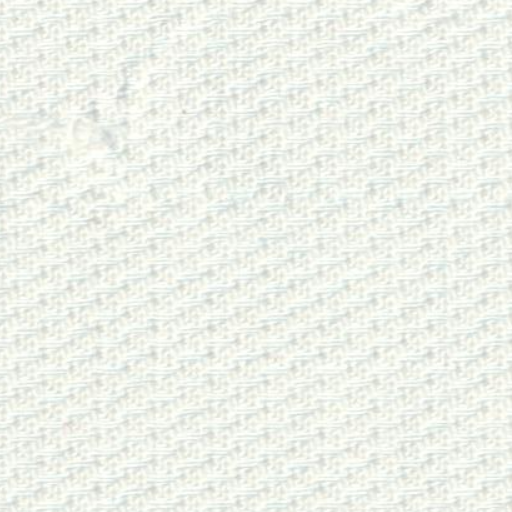DuanSha: (4, 86, 130, 179)
